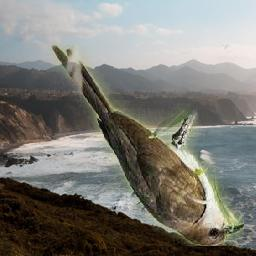Cuckoo: (52, 46, 245, 247)
